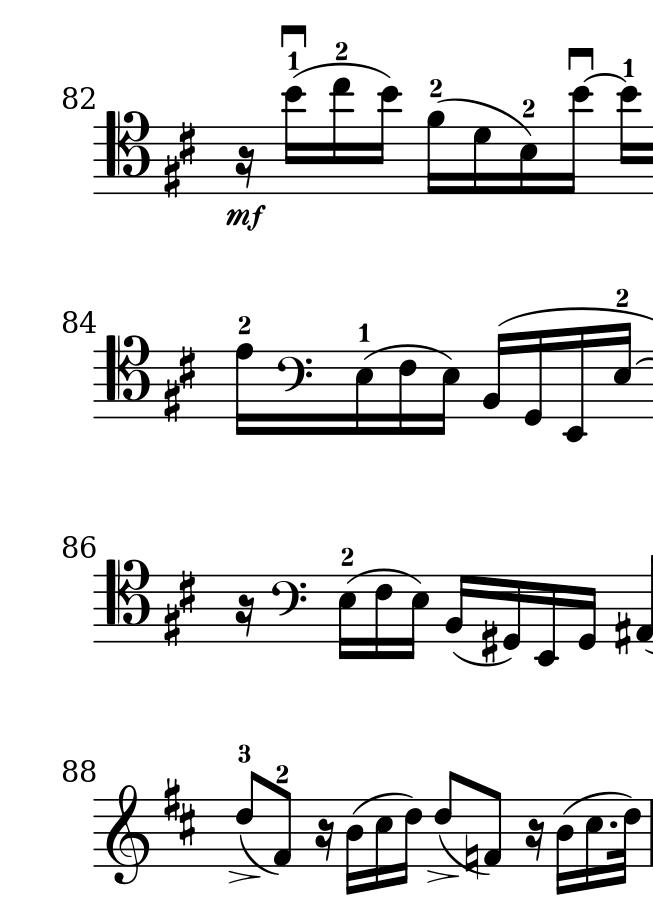1: (357, 322, 372, 342), (622, 56, 634, 79), (286, 50, 299, 71)
16_-2: (563, 325, 587, 441), (534, 574, 558, 667)
16_0: (521, 328, 544, 428), (501, 572, 524, 653), (575, 573, 598, 652)
16_12: (561, 86, 593, 197), (370, 86, 402, 195), (617, 86, 642, 194), (282, 85, 306, 192)
16_13: (330, 76, 353, 195)
16_2: (480, 331, 508, 418), (444, 572, 470, 644)
16_4: (554, 797, 574, 896), (344, 798, 362, 894)
16_5: (401, 574, 431, 662), (432, 351, 461, 438), (612, 321, 634, 420), (583, 794, 604, 894), (353, 347, 375, 439), (374, 796, 394, 892), (336, 575, 357, 663), (518, 127, 540, 196)
16_6: (395, 796, 423, 886), (373, 572, 394, 662), (397, 348, 417, 439)
16_7: (471, 123, 492, 198)
16_8: (234, 340, 254, 438)
16_9: (425, 109, 445, 195)
2: (78, 85, 96, 110), (237, 312, 253, 338), (428, 75, 443, 98), (332, 39, 349, 59), (339, 545, 354, 567), (521, 97, 535, 120), (615, 287, 628, 308)
3: (237, 743, 252, 763)
32_6: (610, 798, 640, 886)
4: (80, 309, 97, 334)
6: (79, 534, 98, 560)
8: (61, 758, 79, 784), (79, 758, 97, 784), (61, 84, 78, 110), (61, 534, 78, 560), (62, 309, 79, 334)
8_1: (483, 786, 503, 870), (272, 787, 292, 870)
8_6: (234, 770, 261, 866), (434, 770, 460, 866)
Accent_above: (225, 869, 262, 885)
D_S: (161, 773, 203, 849), (160, 121, 198, 200), (161, 345, 198, 424), (161, 568, 197, 645)
Diminuendo_hairpin: (426, 866, 458, 883)
Down_bow: (280, 20, 308, 50), (567, 44, 592, 71)
Fclef: (276, 349, 314, 434), (270, 573, 308, 643)
Gclef: (105, 781, 149, 886)
Natural: (464, 832, 479, 882)
Rests16: (234, 594, 256, 638), (235, 146, 257, 189), (315, 818, 335, 862), (525, 818, 545, 862)
Sharp: (613, 610, 632, 657), (481, 619, 498, 663)
Single_barline: (646, 800, 653, 867)
Slur: (437, 97, 531, 136), (498, 307, 653, 323), (438, 834, 490, 876), (563, 790, 634, 815), (240, 833, 279, 876), (363, 344, 451, 361), (293, 63, 389, 78), (350, 791, 412, 812), (346, 568, 421, 583), (453, 652, 508, 669), (585, 71, 624, 84)
Tensor_Cclef: (103, 558, 151, 641), (105, 110, 151, 193), (104, 334, 150, 417)
dot: (607, 817, 618, 830)
mf: (226, 201, 267, 234)
